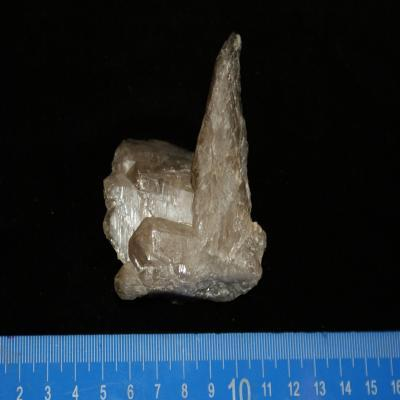mineralogy: (102, 32, 268, 305)
